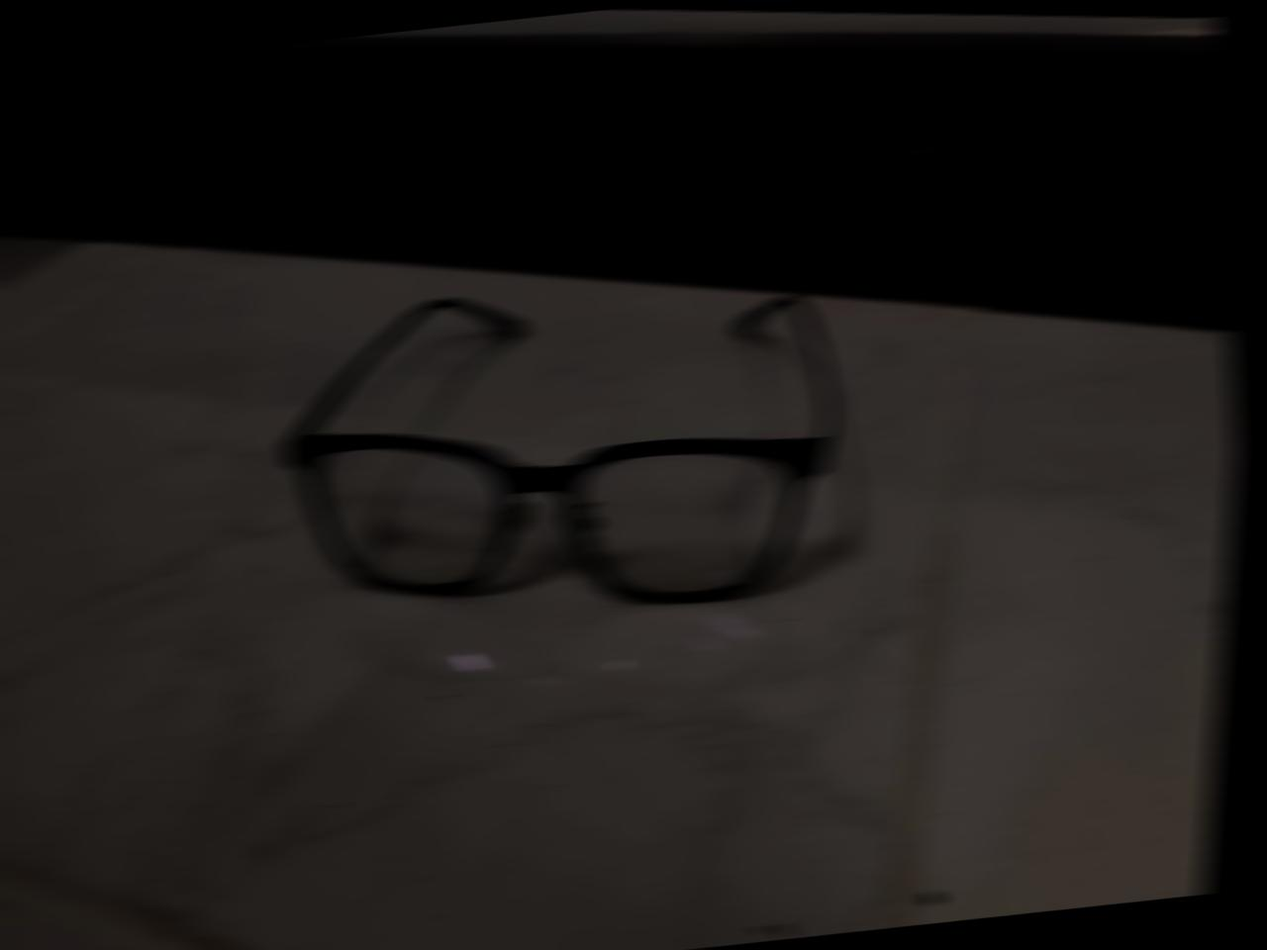glasses: (253, 255, 887, 660)
